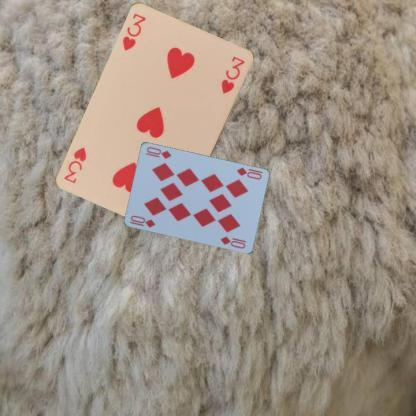10d: (127, 212, 157, 228), (233, 165, 262, 181)
3h: (120, 11, 148, 53)
